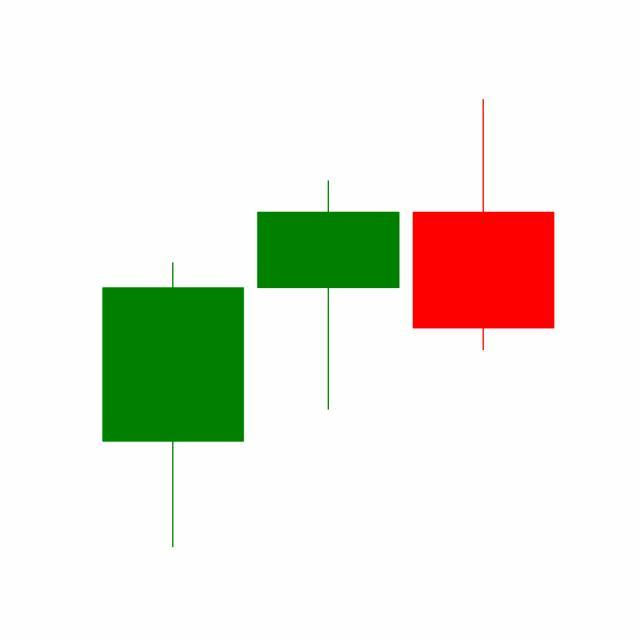Hanging Man: (250, 179, 407, 413)
